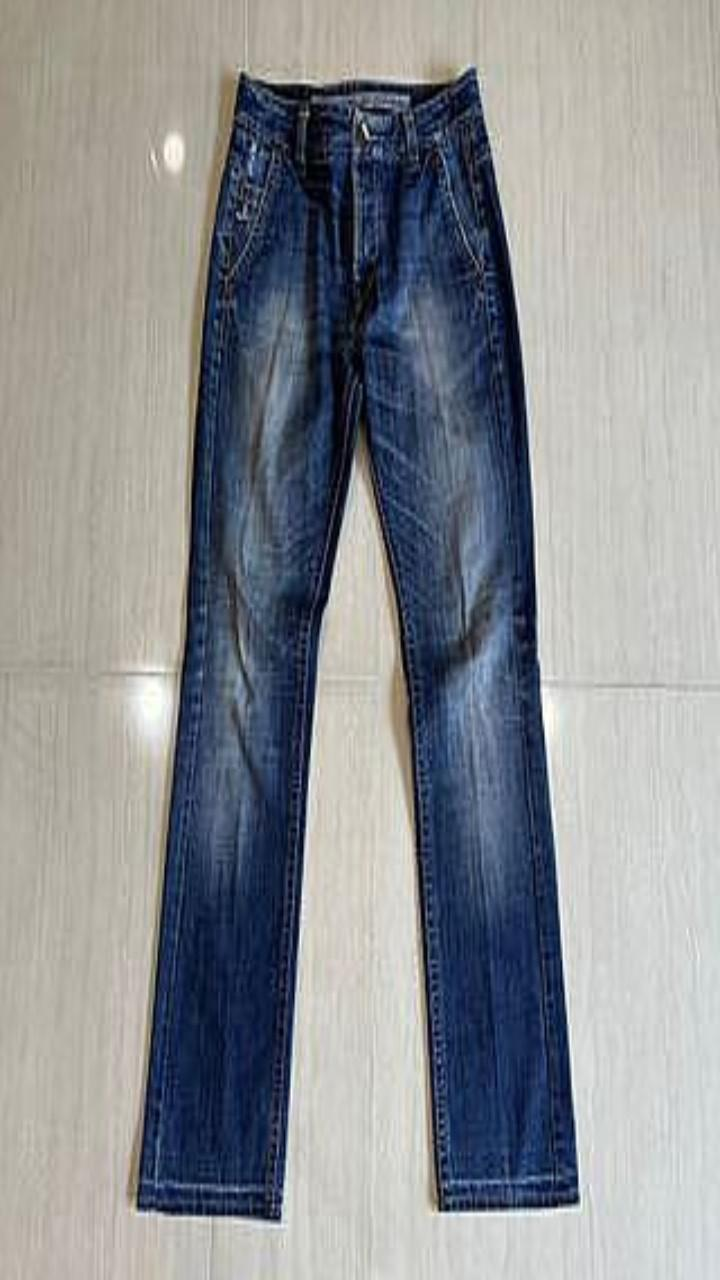Jeans: (137, 67, 579, 1219)
